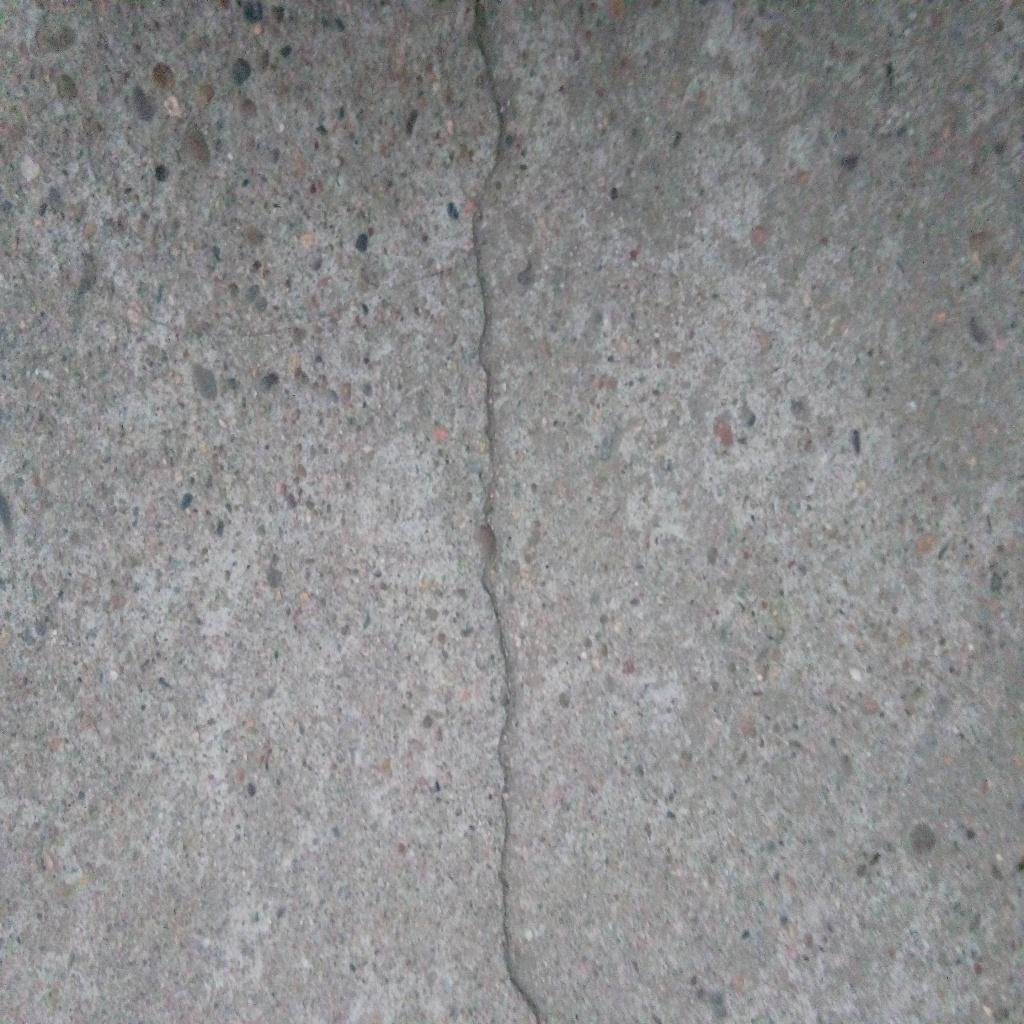Crack: (467, 1, 549, 1024)
